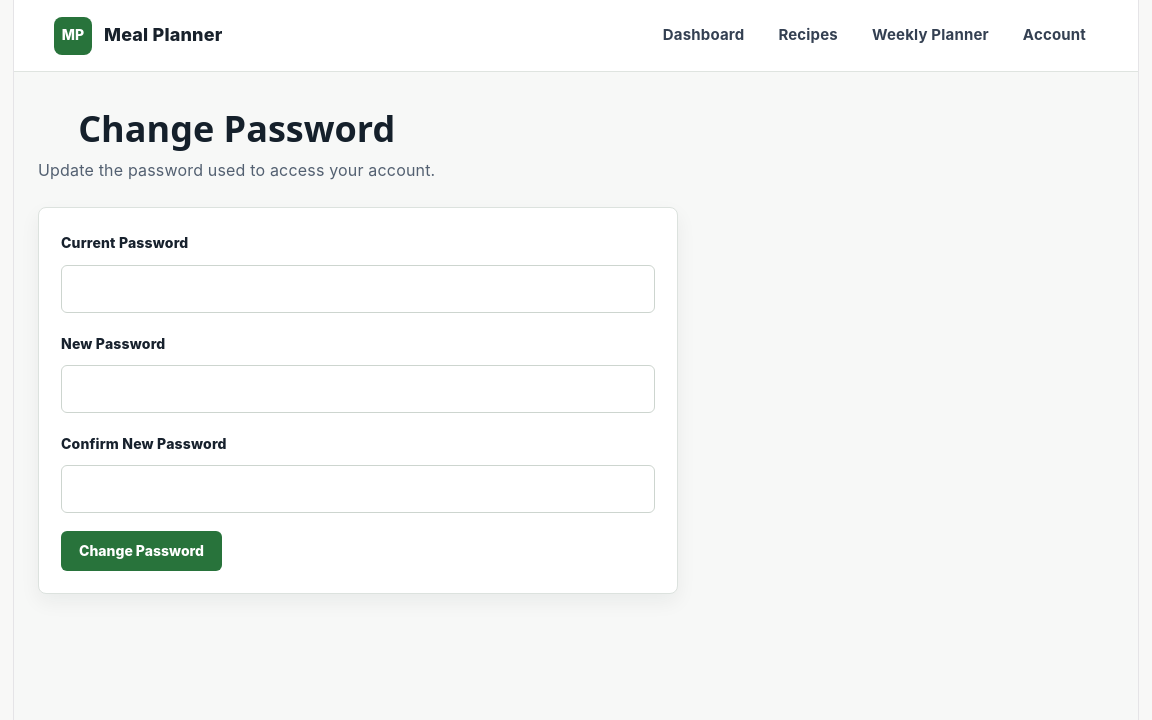
Test: change password form › shows required field validation and password mismatch feedback
Click the button "Change Password" at (142, 551), box [61,531,222,571]
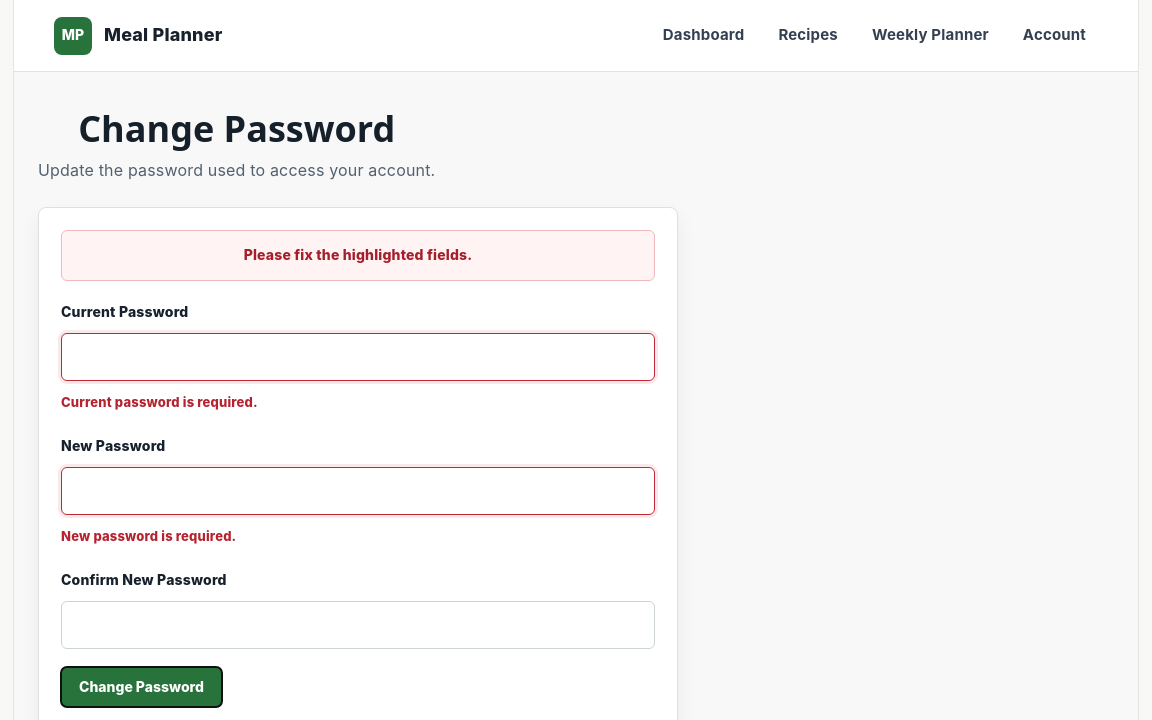
Expected: the text "Current password is required." is shown, [61,394,258,410]
Expected: the text "New password is required." is shown, [61,528,236,544]
Type "Password123" into the password field labelled "Current Password Current password is required." at (358, 357), box [61,333,655,381]
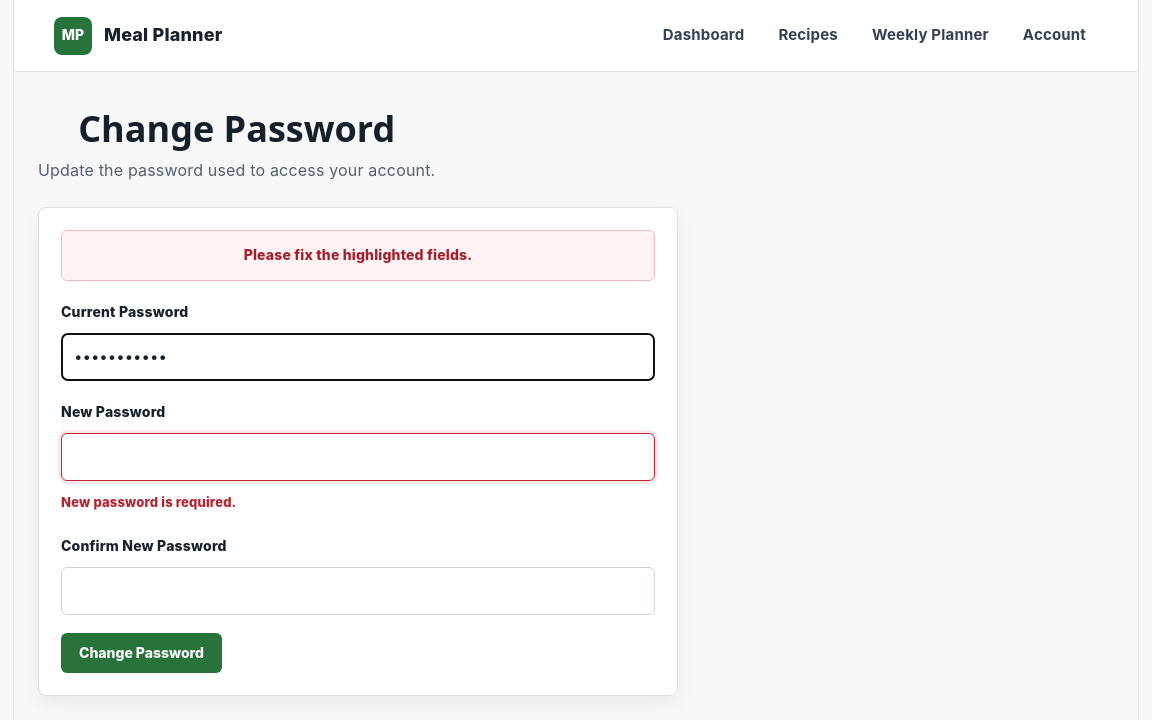
Type "Password456" into the password field labelled "New Password New password is required." at (358, 457), box [61,433,655,481]
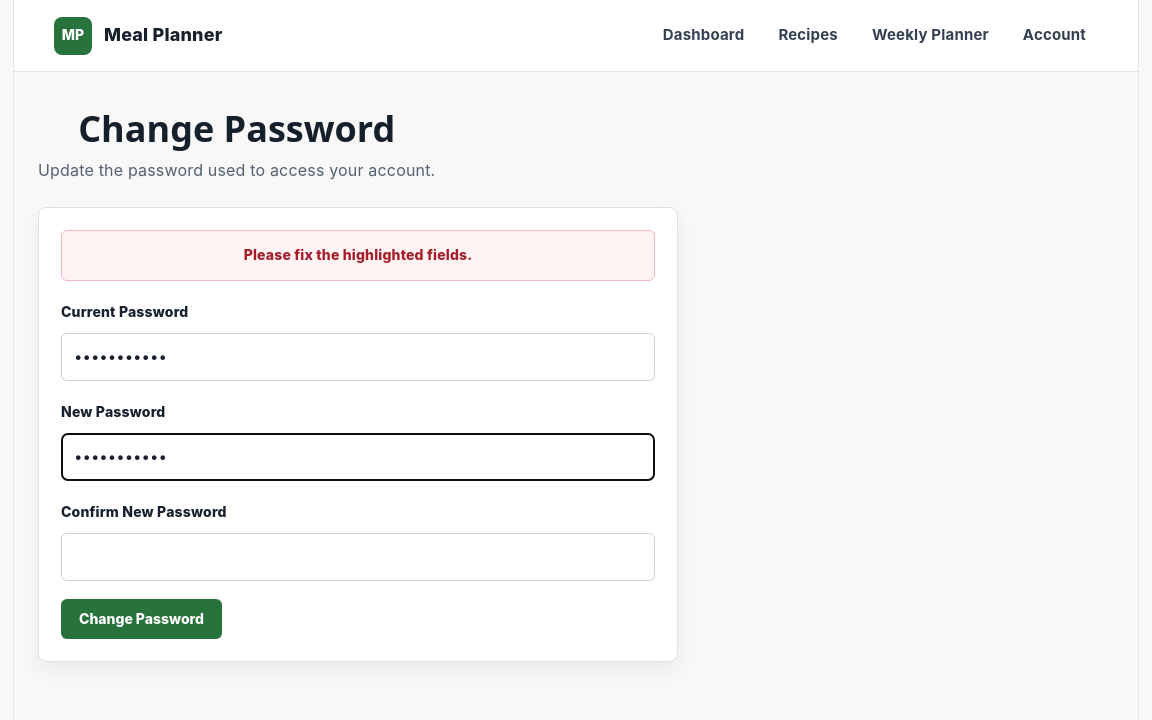
Type "Password789" into the password field labelled "Confirm New Password" at (358, 557), box [61,533,655,581]
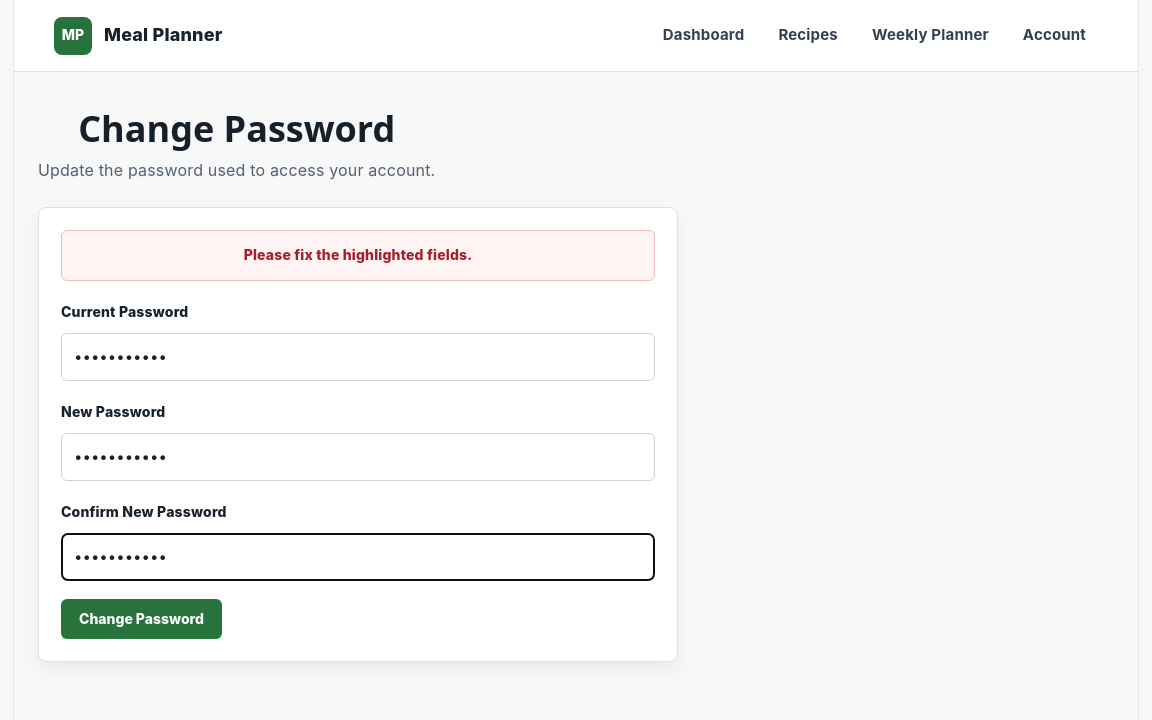
Click the button "Change Password" at (142, 619), box [61,599,222,639]
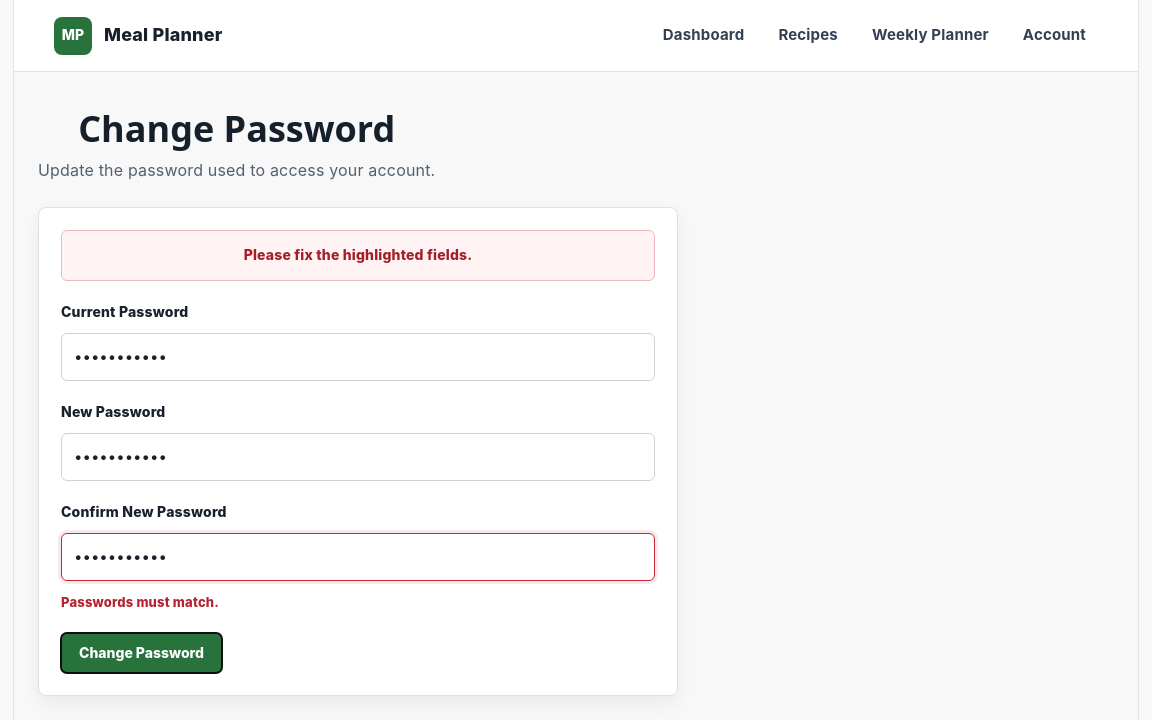
Expected: the text "Passwords must match." is shown, [61,594,219,610]
